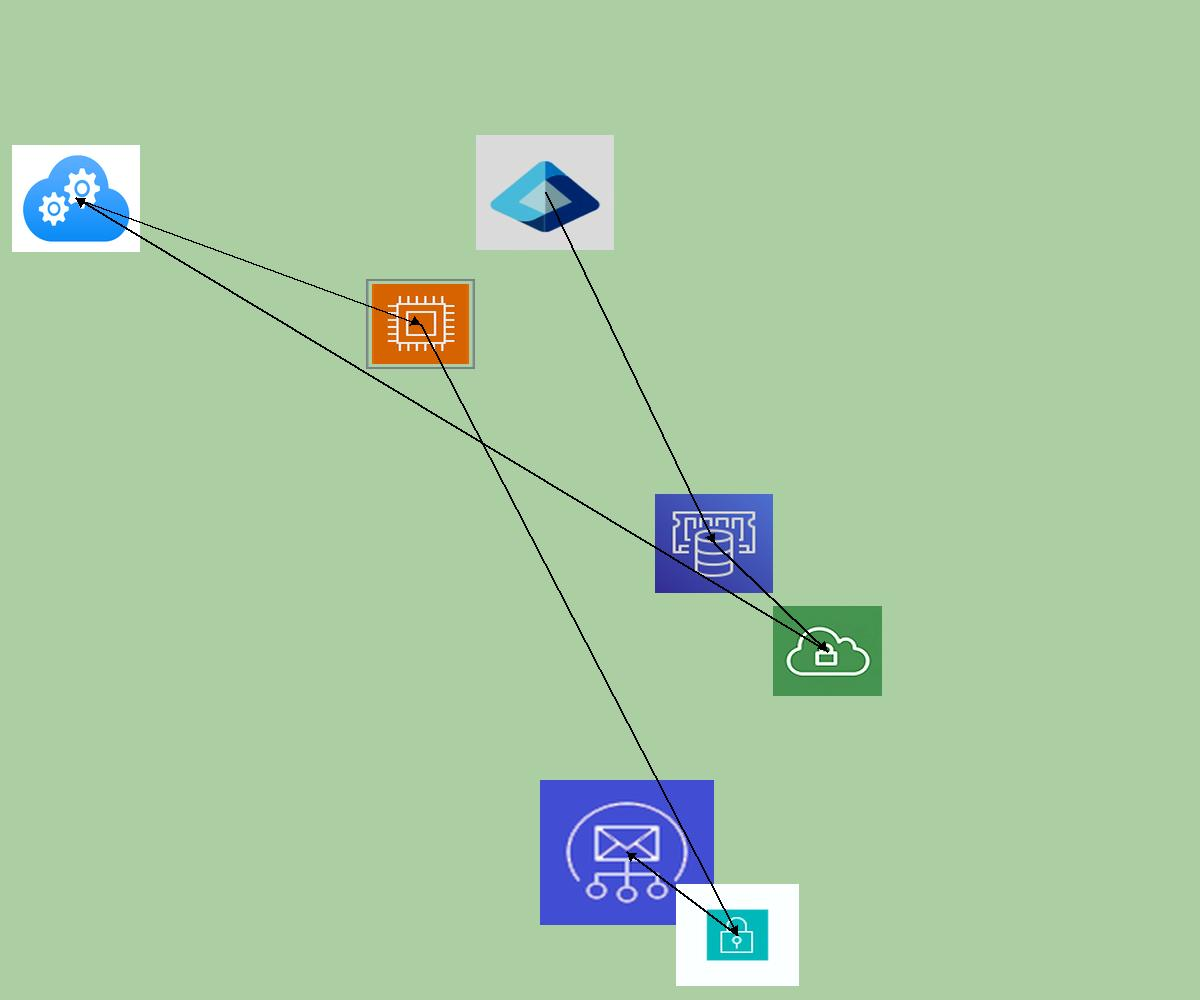AWS-Category_Compute: (366, 279, 475, 369)
AWS-ElastiCache: (655, 494, 773, 593)
AWS-Private-subnet: (676, 884, 799, 986)
AWS-Private_vpc: (773, 606, 882, 696)
AWS-Simple-Email-Service: (540, 780, 714, 925)
Azure_cloud_services: (12, 145, 140, 252)
Azure_microsoft_entra: (476, 135, 614, 250)
